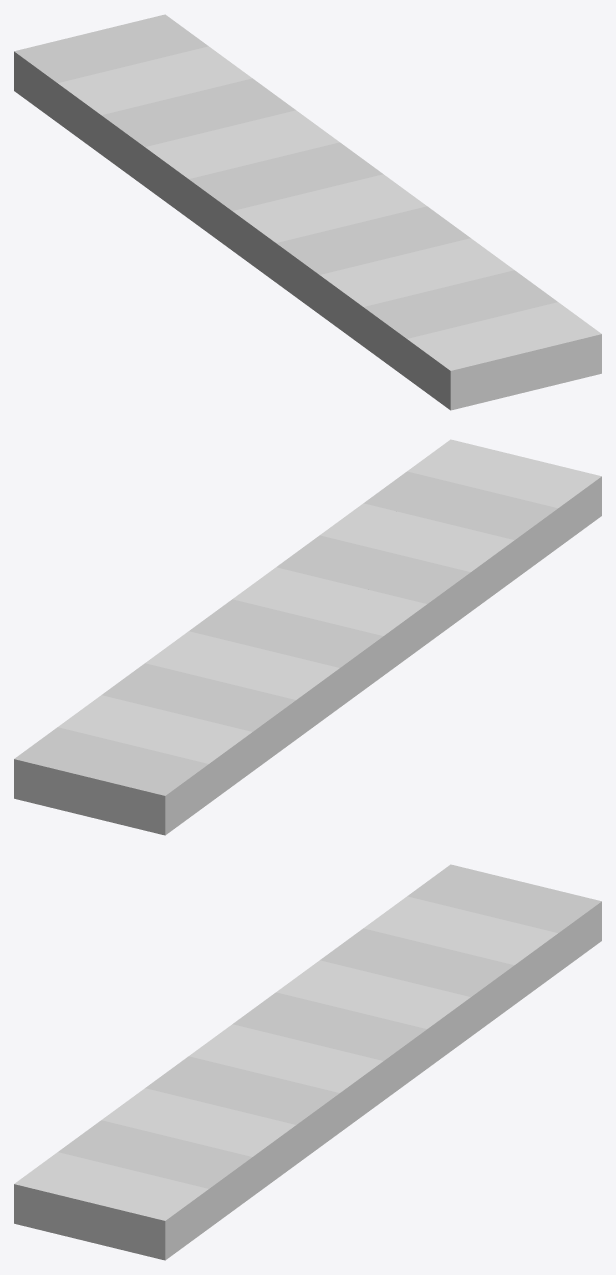
File: road_03.fbx
3 views of the same model, one above another, from view 1: azimuth 30°, elevation 25°; view 2: azimuth 150°, elevation 25°; view 3: azimuth 330°, elevation 25° (orthographic).
Parts seen in each view (by area): view 1: road_03; view 2: road_03; view 3: road_03.
Boxes of the visible parts, <box> form: road_03: <box>14,14,601,410</box>; road_03: <box>14,439,601,835</box>; road_03: <box>14,864,601,1260</box>.
Bounding box in the file's own units: 10.21 × 2.55 × 51.04.
